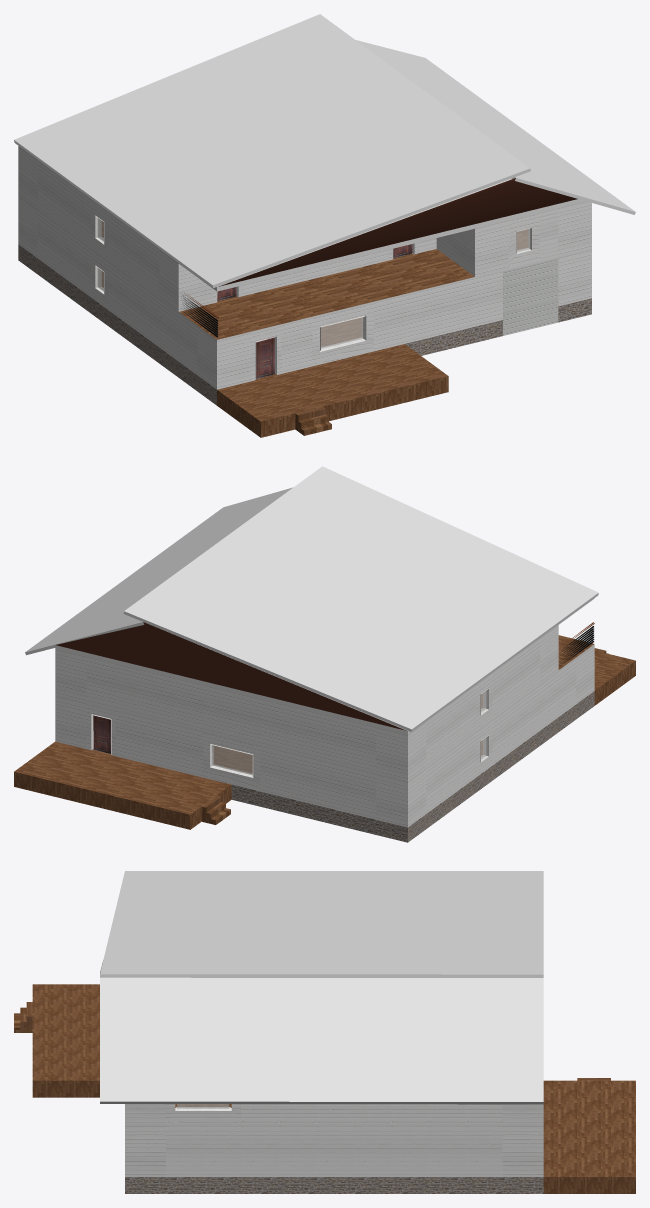
File: house_kosong.glb
The picture shows the model from 3 angles, top to bottom: view 1: azimuth 30°, elevation 25°; view 2: azimuth 150°, elevation 25°; view 3: azimuth 270°, elevation 25°; orthographic projection. The views are drawn at different scales.
Visible parts, largest first — view 1: Cube.021; view 2: Cube.021; view 3: Cube.021.
Boxes of the visible parts, bbox=[...] form: Cube.021: bbox=[14, 14, 635, 437]; Cube.021: bbox=[14, 466, 635, 842]; Cube.021: bbox=[14, 871, 635, 1193].
Size of the model in its own units: 26.77 by 10.73 by 33.28.
Materials: 20 (12 with a texture image).
